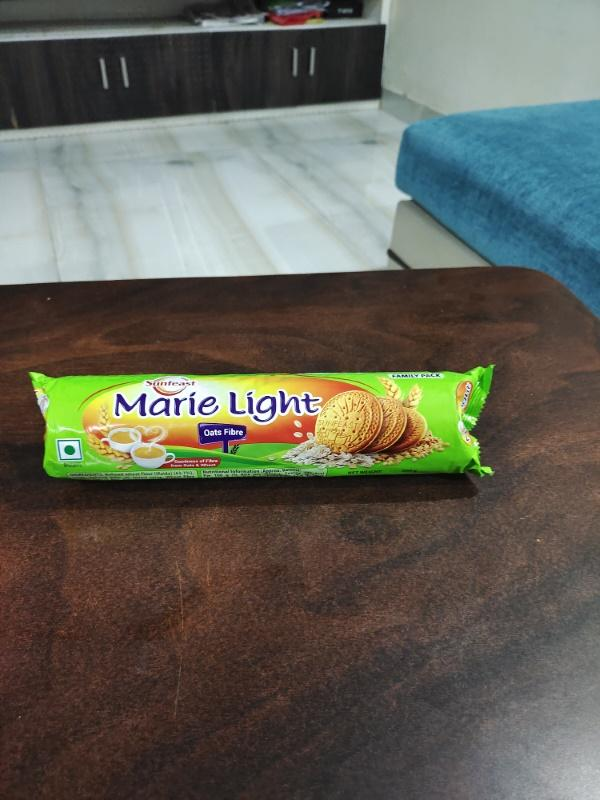MarieLight: (31, 365, 502, 493)
